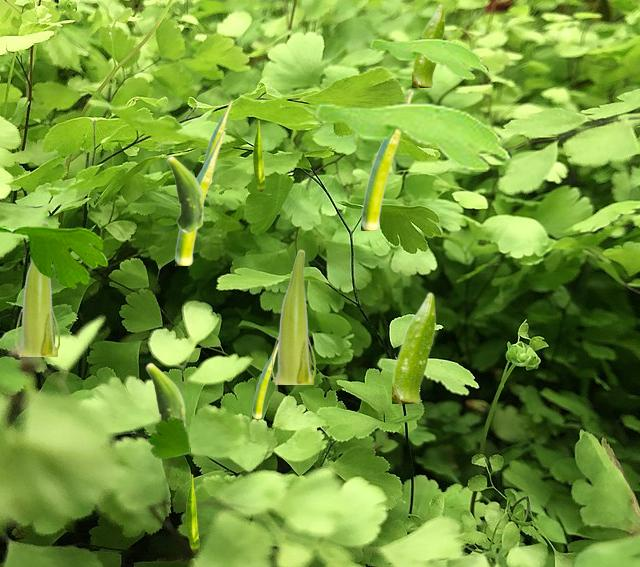okra: (361, 90, 412, 229), (175, 130, 224, 264), (270, 249, 314, 383), (14, 221, 58, 355), (392, 291, 435, 402), (166, 155, 203, 232), (412, 3, 444, 86), (145, 362, 185, 425), (202, 100, 231, 183), (252, 349, 276, 417), (186, 474, 198, 551), (253, 120, 264, 191)
